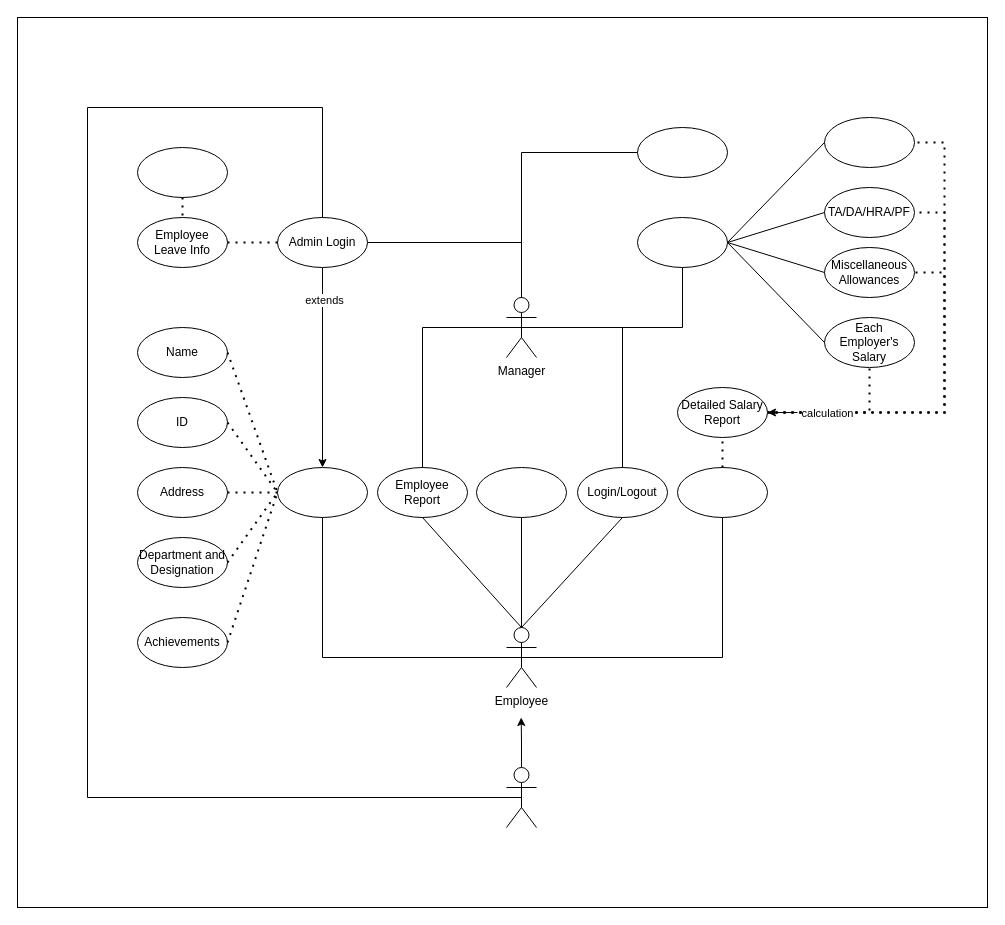
Some shapes in this 1005 by 925 pixel diagram are drawn without their labels. Each missing label, with the centre of its shape:
"Admin" belongs at pixel 521 797.
"Deduction" belongs at pixel 869 142.
"Employees' Details" belongs at pixel 322 492.
"Final Salary Slip" belongs at pixel 722 492.
"Grant/Decline Leave" belongs at pixel 682 152.
"Leave Request" belongs at pixel 521 492.
"Number of Leave Taken" belongs at pixel 182 172.
"Salary Details" belongs at pixel 682 242.
